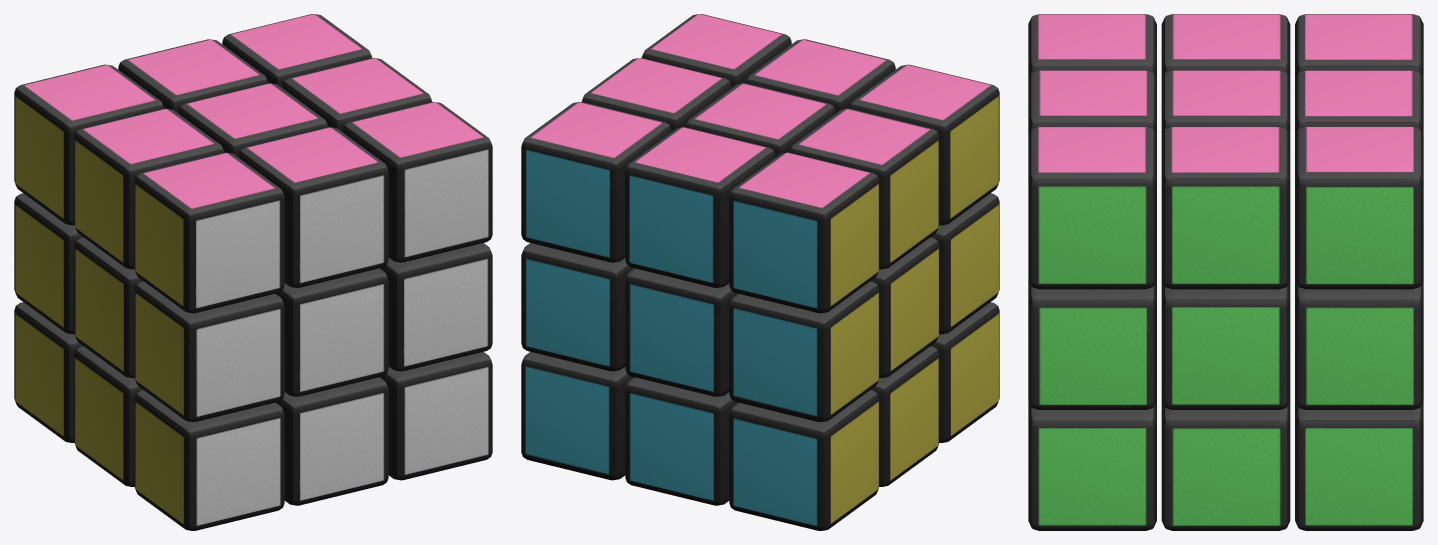
Rendered from rubikcube.fbx.
The picture shows the model from 3 angles, left to right: view 1: azimuth 30°, elevation 25°; view 2: azimuth 150°, elevation 25°; view 3: azimuth 270°, elevation 25°; orthographic projection. The views are drawn at different scales.
Parts seen in each view (by area): view 1: rubickCube; view 2: rubickCube; view 3: rubickCube.
Boxes of the visible parts, left/top/right/bottom form: rubickCube: left=14, top=14, right=492, bottom=530; rubickCube: left=521, top=14, right=999, bottom=530; rubickCube: left=1028, top=14, right=1423, bottom=530.
Bounding box in the file's own units: 3.07 × 3.07 × 3.07.
